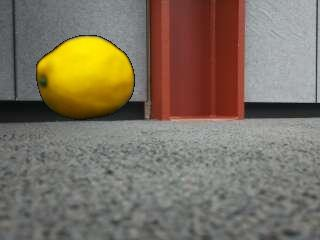lemon: (37, 35, 133, 118)
